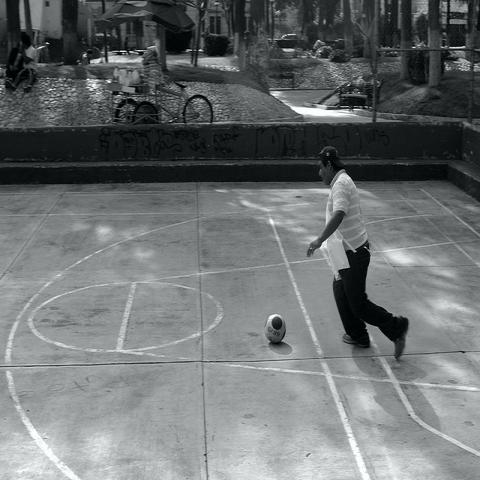car: (274, 33, 299, 50)
